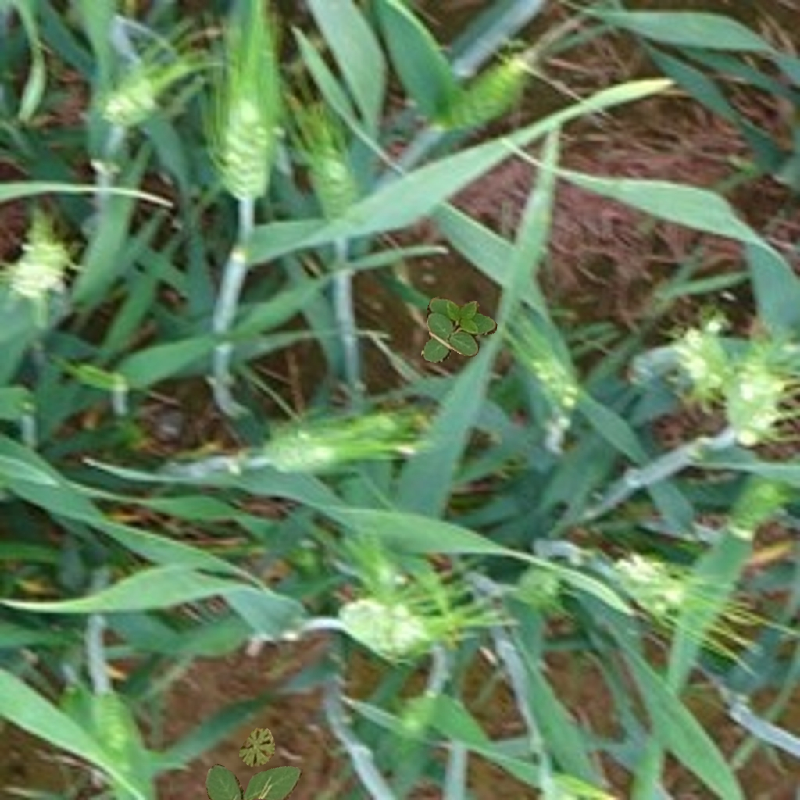spikelet: (259, 408, 381, 475), (442, 49, 536, 134), (217, 95, 273, 202), (338, 596, 432, 658), (307, 141, 360, 231), (726, 362, 784, 440), (609, 553, 686, 611), (101, 59, 162, 125), (7, 237, 70, 297), (672, 324, 730, 389), (737, 482, 784, 529), (515, 564, 561, 605)
weed: (418, 293, 501, 373), (197, 756, 306, 800), (233, 722, 285, 774)
